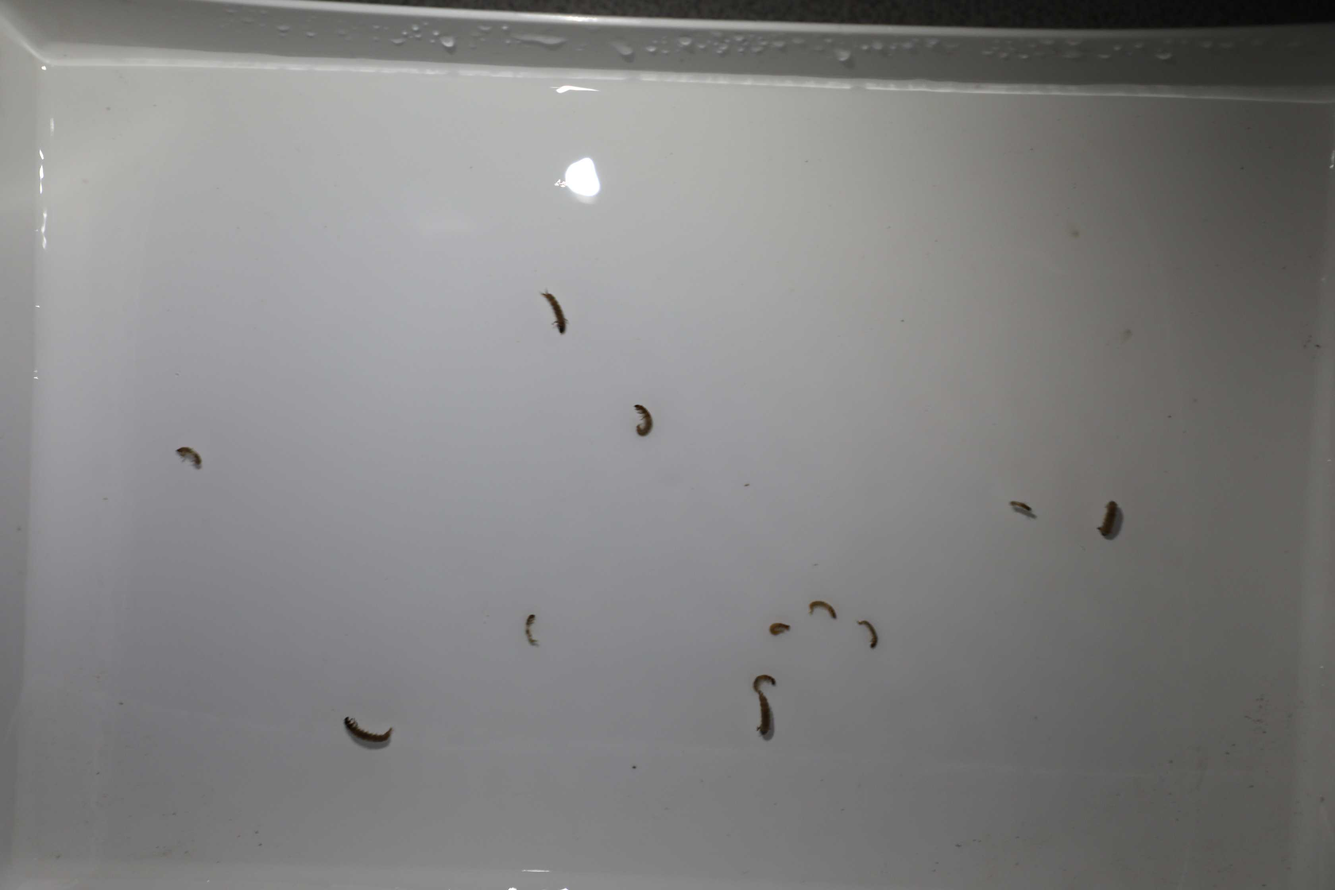Cadisfly: (1090, 494, 1126, 545), (342, 713, 391, 745), (538, 294, 570, 338), (627, 400, 656, 443), (520, 604, 543, 657), (756, 690, 776, 746), (855, 618, 882, 651), (172, 444, 203, 471), (806, 598, 837, 621), (1007, 497, 1035, 522), (763, 618, 796, 639), (751, 674, 778, 694)
